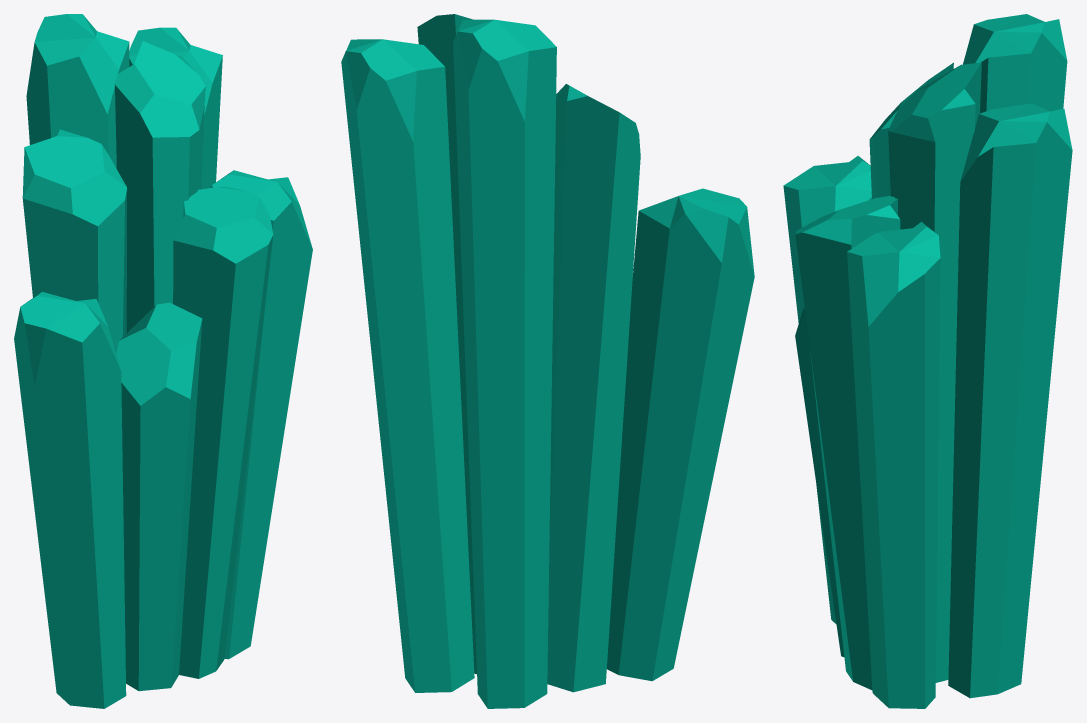
File: Jem_28.fbx
The picture shows the model from 3 angles, left to right: view 1: azimuth 30°, elevation 25°; view 2: azimuth 150°, elevation 25°; view 3: azimuth 270°, elevation 25°; orthographic projection. The views are drawn at different scales.
Parts seen in each view (by area): view 1: Jem_28; view 2: Jem_28; view 3: Jem_28.
Boxes of the visible parts, x1,y1,x2,y2 form: Jem_28: (14,14,312,708); Jem_28: (341,14,754,708); Jem_28: (783,14,1072,708).
Size of the model in its own units: 55.23 by 105 by 43.58.
